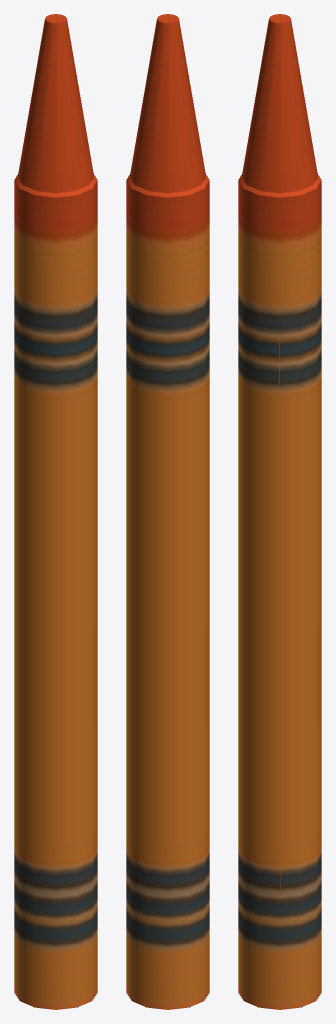
The model's file is toy_crayon_orange.glb.
The picture shows the model from 3 angles, left to right: view 1: azimuth 90°, elevation 25°; view 2: azimuth 210°, elevation 25°; view 3: azimuth 270°, elevation 25°; orthographic projection.
Parts seen in each view (by area): view 1: toy_crayon_orange; view 2: toy_crayon_orange; view 3: toy_crayon_orange.
Part boxes in pixels (x1,y1,x2,y2): toy_crayon_orange: [14, 14, 97, 1009]; toy_crayon_orange: [126, 14, 209, 1009]; toy_crayon_orange: [238, 14, 321, 1009].
Bounding box in the file's own units: 1.24 × 16 × 1.24.
1 material, 1 textured.
